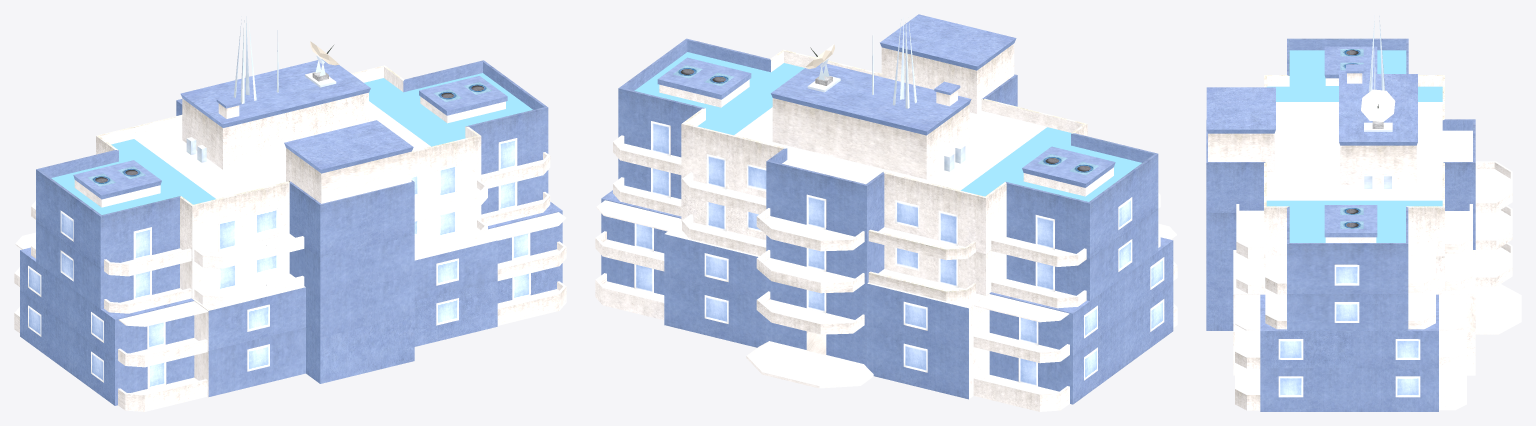
The model's file is ORB_8_4S_Detail_2.fbx.
3 renders of one model, left to right at view 1: azimuth 30°, elevation 25°; view 2: azimuth 150°, elevation 25°; view 3: azimuth 270°, elevation 25°, orthographic. The views are drawn at different scales.
Visible parts, largest first — view 1: ORB_8_4S_Detail_2; view 2: ORB_8_4S_Detail_2; view 3: ORB_8_4S_Detail_2.
Boxes of the visible parts, bbox=[...] form: ORB_8_4S_Detail_2: bbox=[14, 16, 566, 411]; ORB_8_4S_Detail_2: bbox=[595, 14, 1177, 411]; ORB_8_4S_Detail_2: bbox=[1206, 15, 1521, 411].
Bounding box in the file's own units: 3016 × 1913 × 1951.
